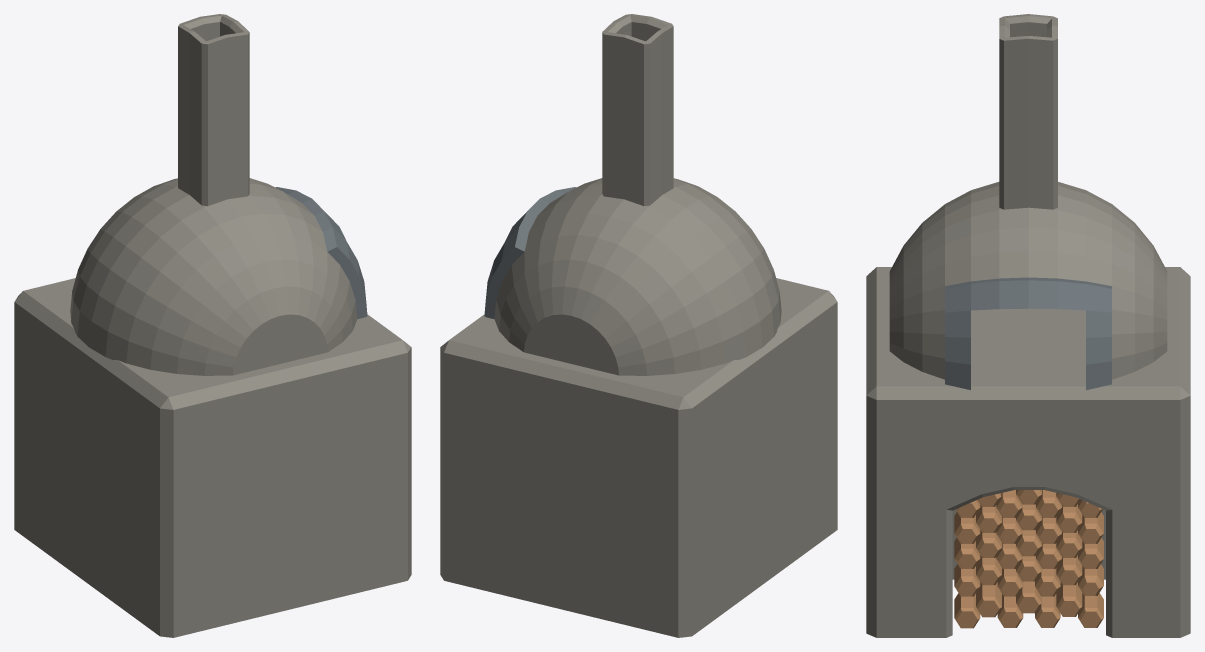
Rendered from Pie Oven.fbx.
3 renders of one model, left to right at view 1: azimuth 30°, elevation 25°; view 2: azimuth 150°, elevation 25°; view 3: azimuth 270°, elevation 25°, orthographic. The views are drawn at different scales.
Parts seen in each view (by area): view 1: Cylinder; view 2: Cylinder; view 3: Cylinder.
Boxes of the visible parts, box(x1,y1,x2,y2) form: Cylinder: box(14, 14, 411, 637); Cylinder: box(440, 14, 837, 637); Cylinder: box(866, 14, 1190, 637).
Size of the model in its own units: 222 by 444 by 238.
